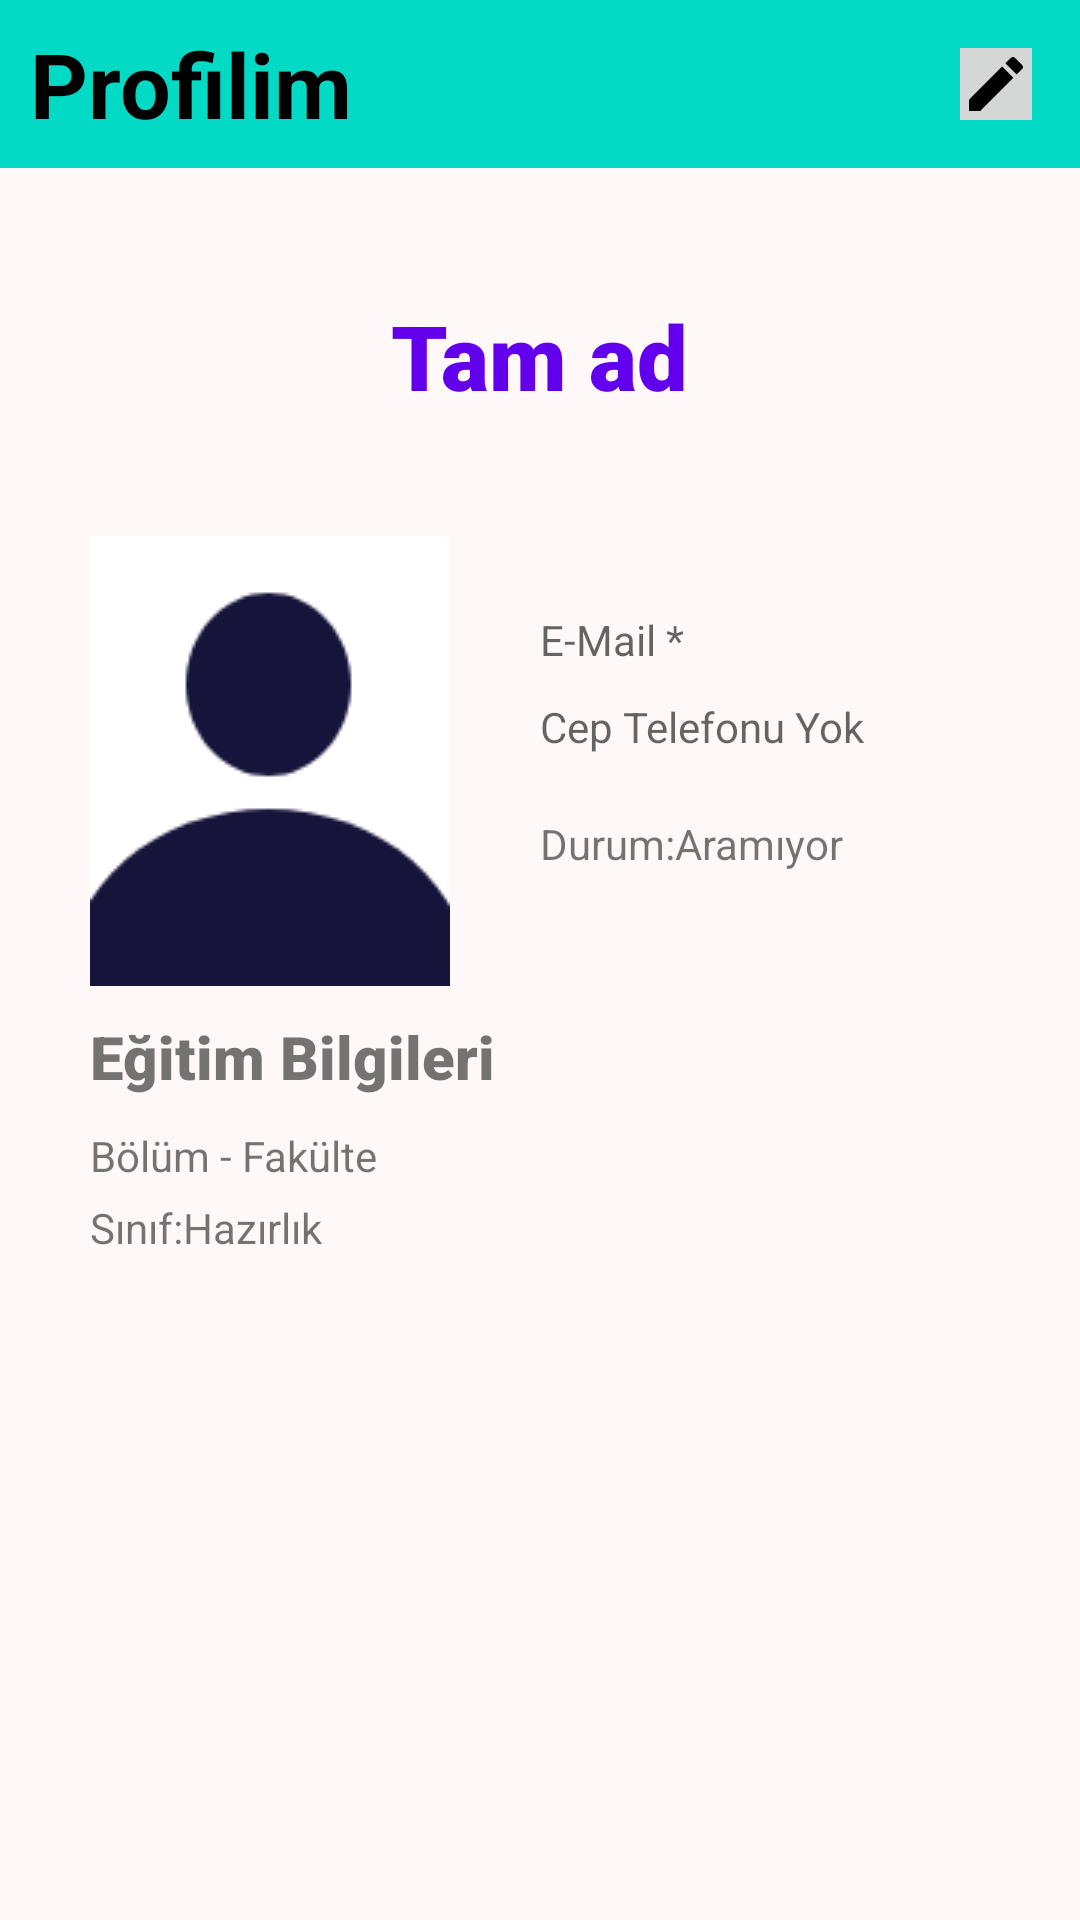

Icons on this 1080 x 1920 Android screen, each with its box as (x1, y1, x2, y2):
edit: (960, 48, 1032, 120)
